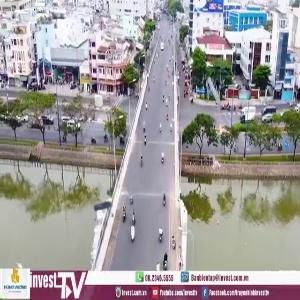drone: (79, 178, 129, 228)
